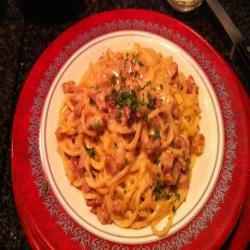carbonara: (44, 43, 210, 238)
